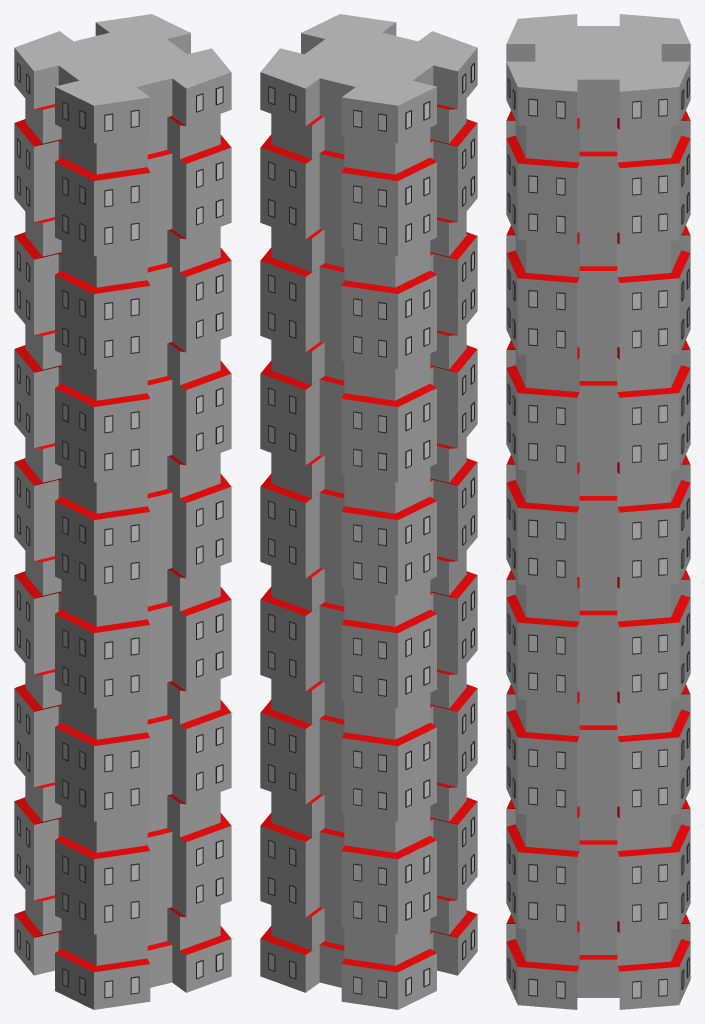
File: tower_1.fbx
3 renders of one model, left to right at view 1: azimuth 30°, elevation 25°; view 2: azimuth 150°, elevation 25°; view 3: azimuth 270°, elevation 25°, orthographic.
Visible parts, largest first — view 1: tower_1; view 2: tower_1; view 3: tower_1.
Boxes of the visible parts, bbox=[...] form: tower_1: bbox=[14, 14, 231, 1009]; tower_1: bbox=[260, 14, 477, 1009]; tower_1: bbox=[506, 14, 690, 1009].
Size of the model in its own units: 19.76 by 109 by 19.76.
